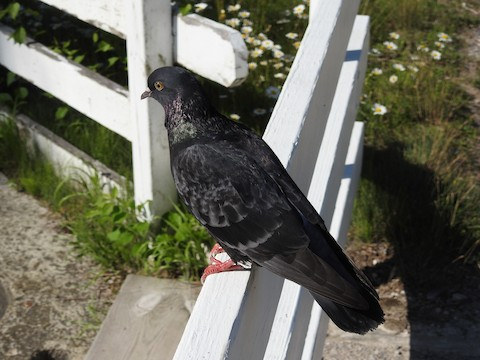pigeon: (139, 60, 397, 337)
